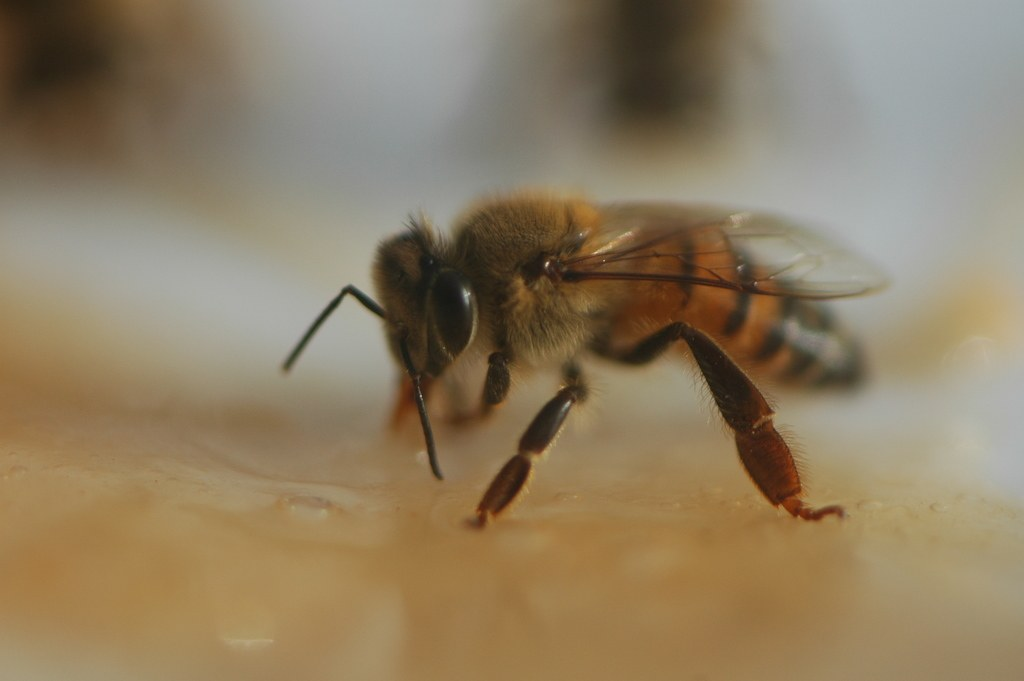bee: (277, 190, 892, 539)
